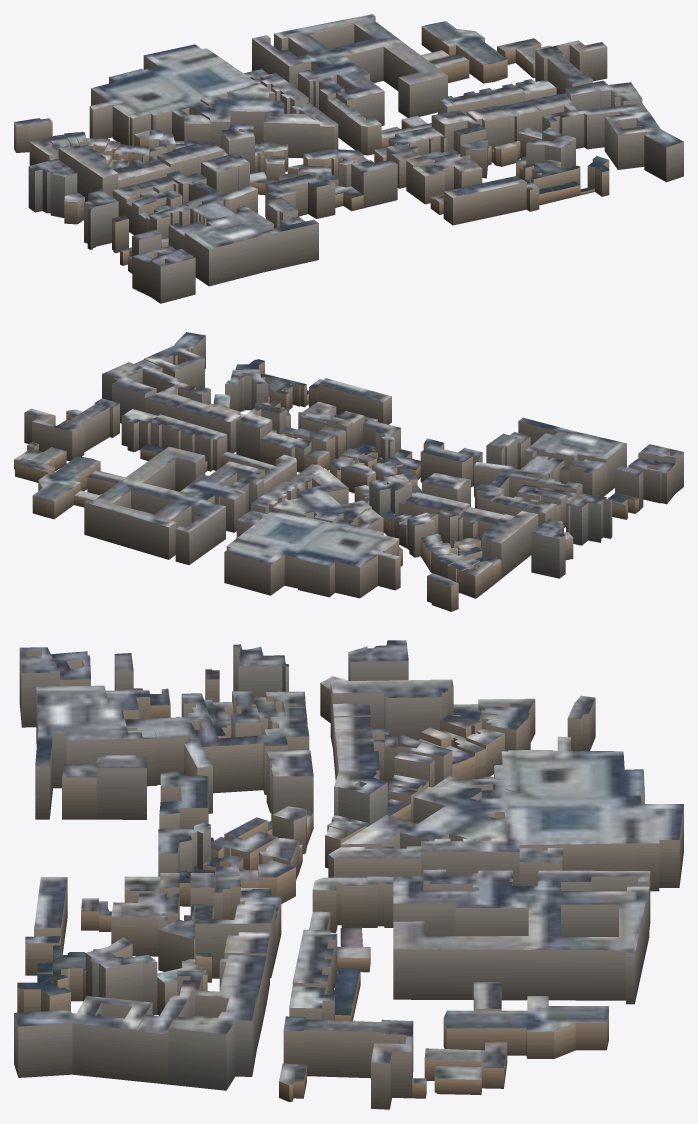
3 renders of one model, top to bottom at view 1: azimuth 30°, elevation 25°; view 2: azimuth 150°, elevation 25°; view 3: azimuth 270°, elevation 25°, orthographic. The views are drawn at different scales.
Bounding box in the file's own units: 347 × 24.08 × 239.
Materials: 2 (2 with a texture image).
